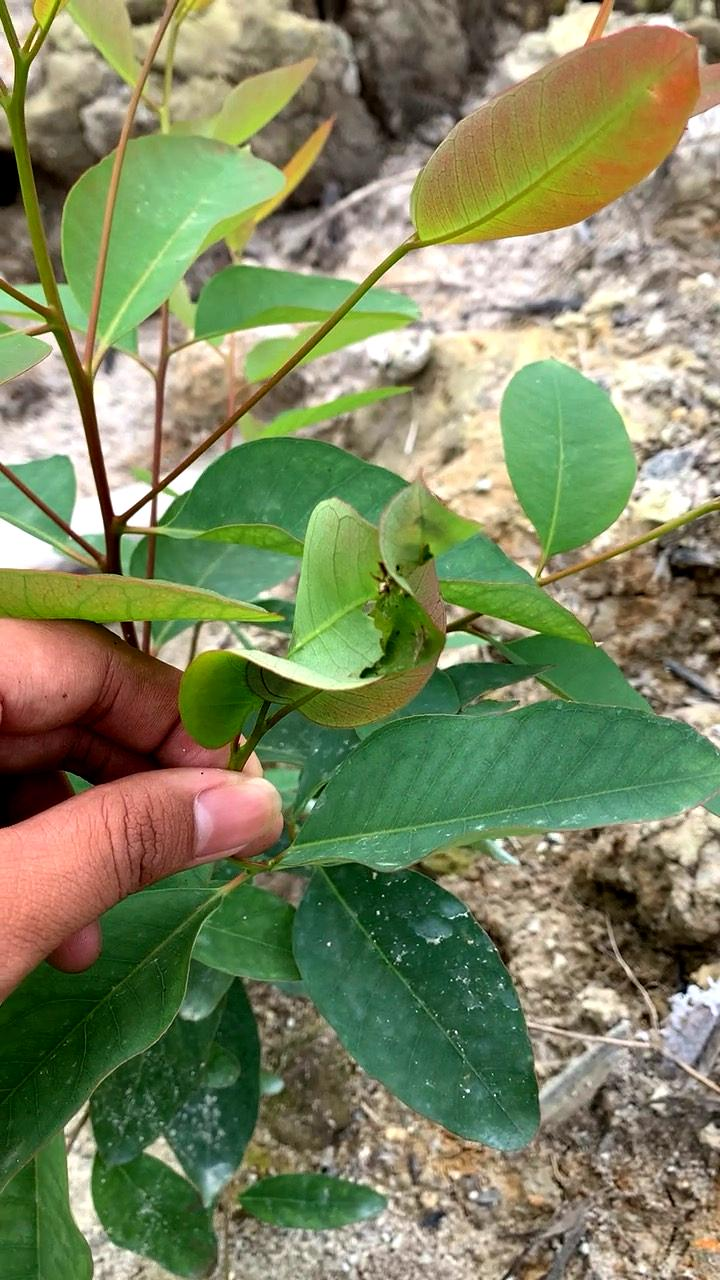Leaf Roller - Leaf: (163, 476, 493, 814)
